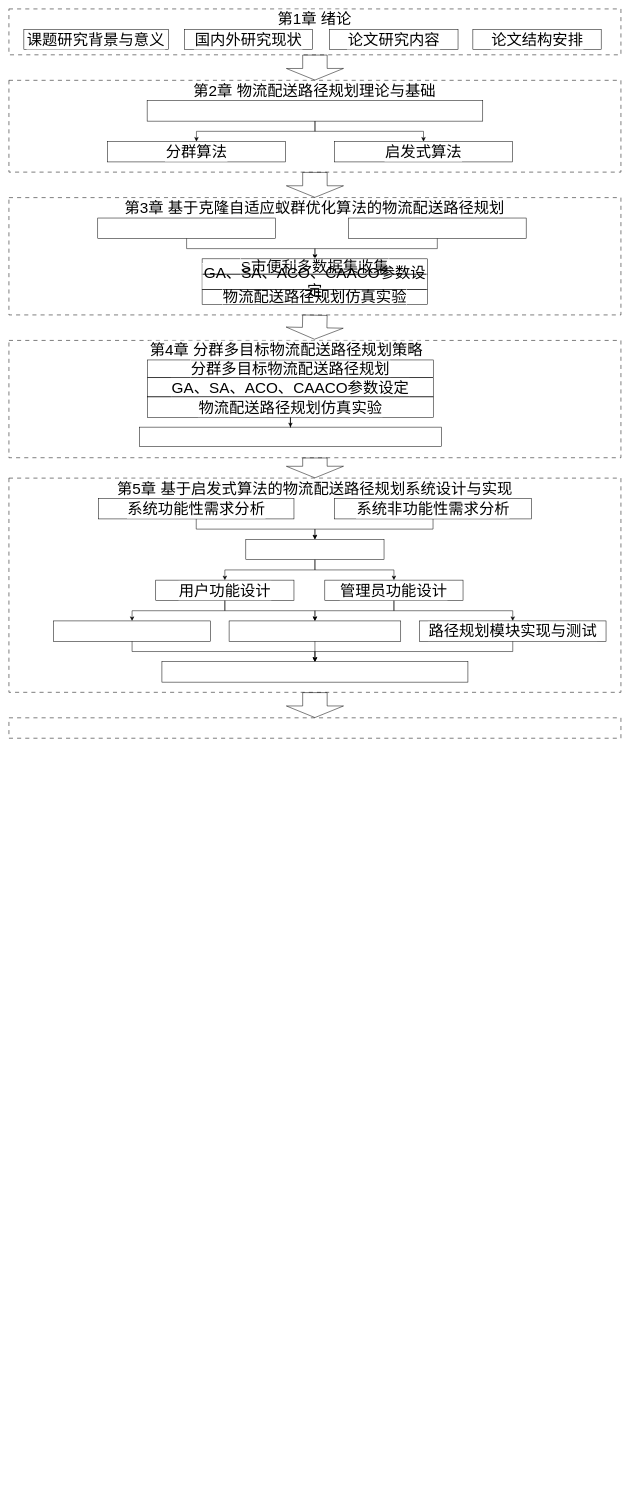
The diagram is 630 pixels wide and 1491 high, and some of its shapes have lost their labels. The shapes that lost their labels are listed below. From the top down, each one's centre as x and y in pixels, then its label:
the point at 315,110: 物流配送路径规划问题
the point at 186,228: 构造多目标物流配送模型
the point at 437,228: 克隆自适应蚁群优化算法
the point at 290,437: 分群克隆自适应蚁群优化算法性能分析
the point at 314,549: 系统架构设计
the point at 131,630: 用户模块实现与测试
the point at 315,630: 管理员模块实现与测试
the point at 314,671: 物流配送路径规划系统调试
the point at 314,727: 第6章 总结与展望
